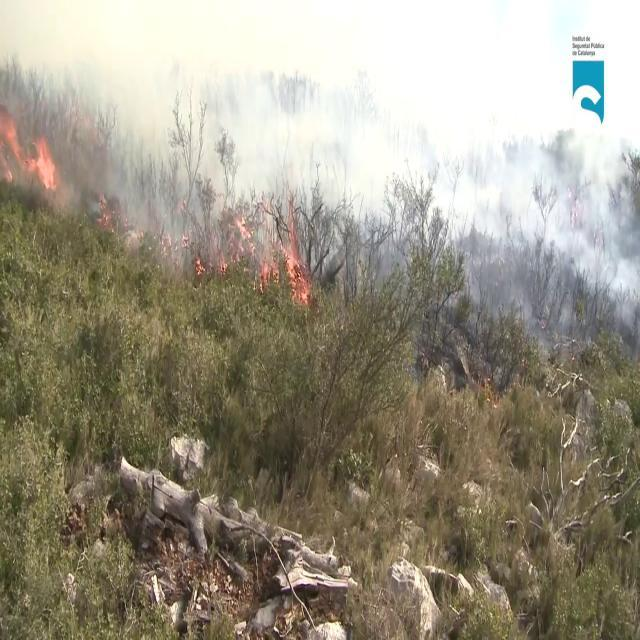Fire: (0, 99, 61, 198), (268, 218, 313, 310)
Smoke: (26, 0, 638, 294)
